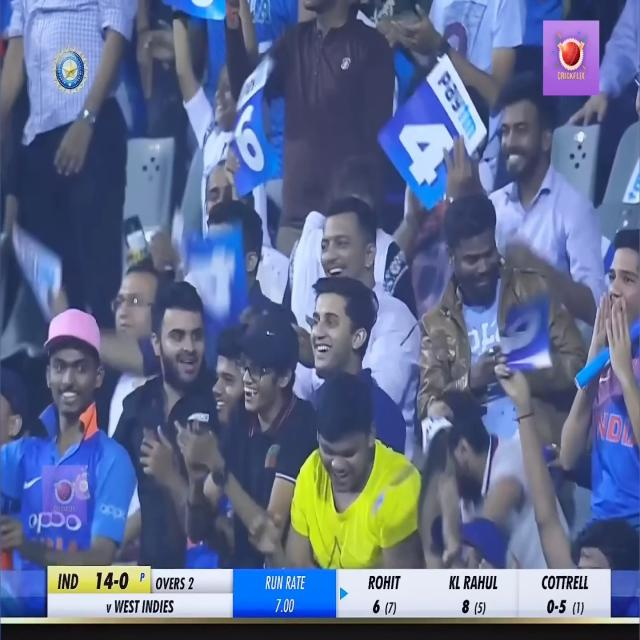fully_visible: (426, 61, 494, 143)
